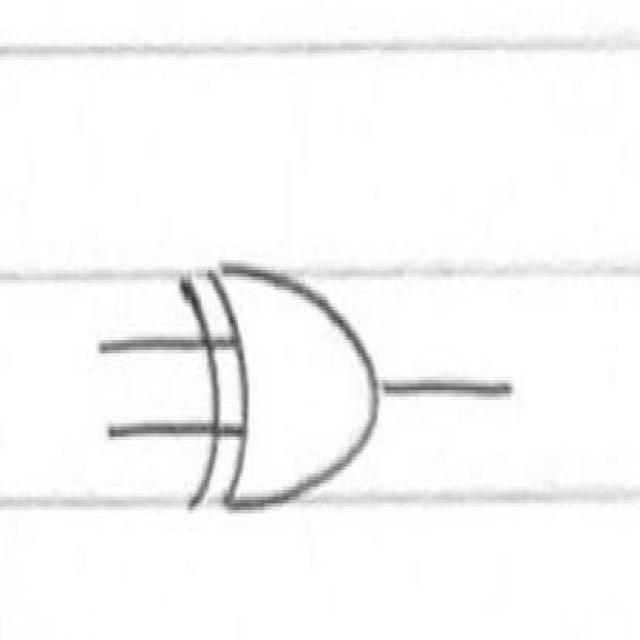XOR: (166, 243, 407, 547)
